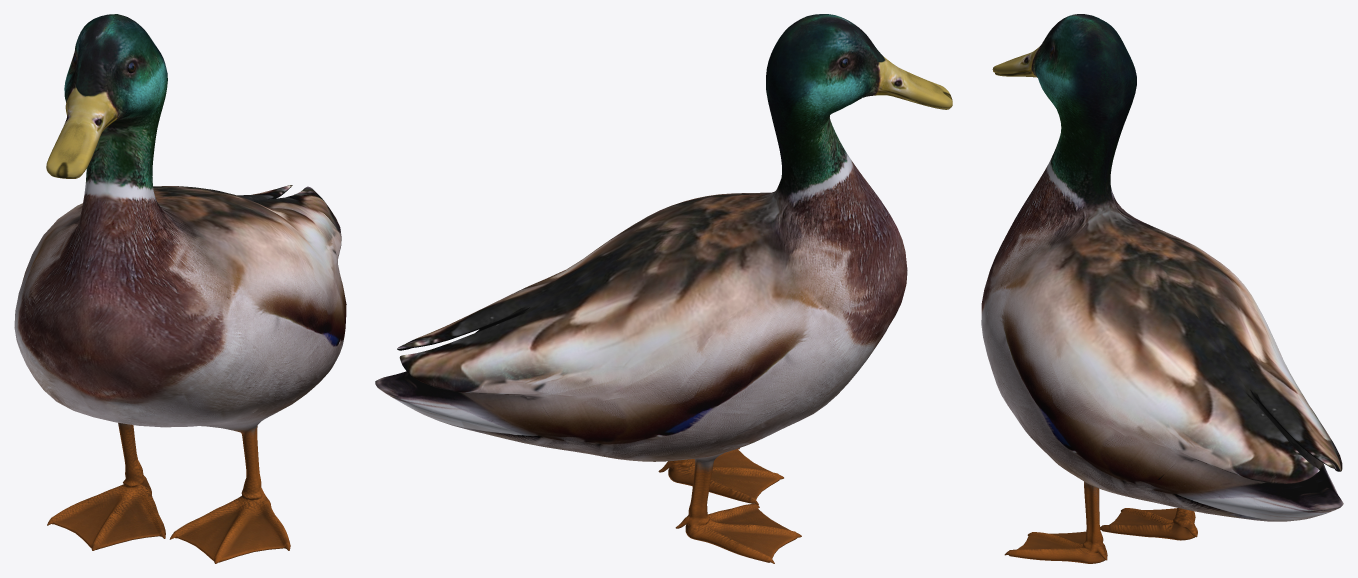
Rendered from pato2.obj.
The picture shows the model from 3 angles, left to right: view 1: azimuth 30°, elevation 25°; view 2: azimuth 150°, elevation 25°; view 3: azimuth 270°, elevation 25°; orthographic projection. The views are drawn at different scales.
Visible parts, largest first — view 1: 12248_Bird_v1_L2; view 2: 12248_Bird_v1_L2; view 3: 12248_Bird_v1_L2.
Boxes of the visible parts, bbox=[...] form: 12248_Bird_v1_L2: bbox=[14, 14, 346, 563]; 12248_Bird_v1_L2: bbox=[375, 14, 952, 563]; 12248_Bird_v1_L2: bbox=[981, 14, 1343, 563].
Size of the model in its own units: 48.22 by 56.67 by 37.77.
